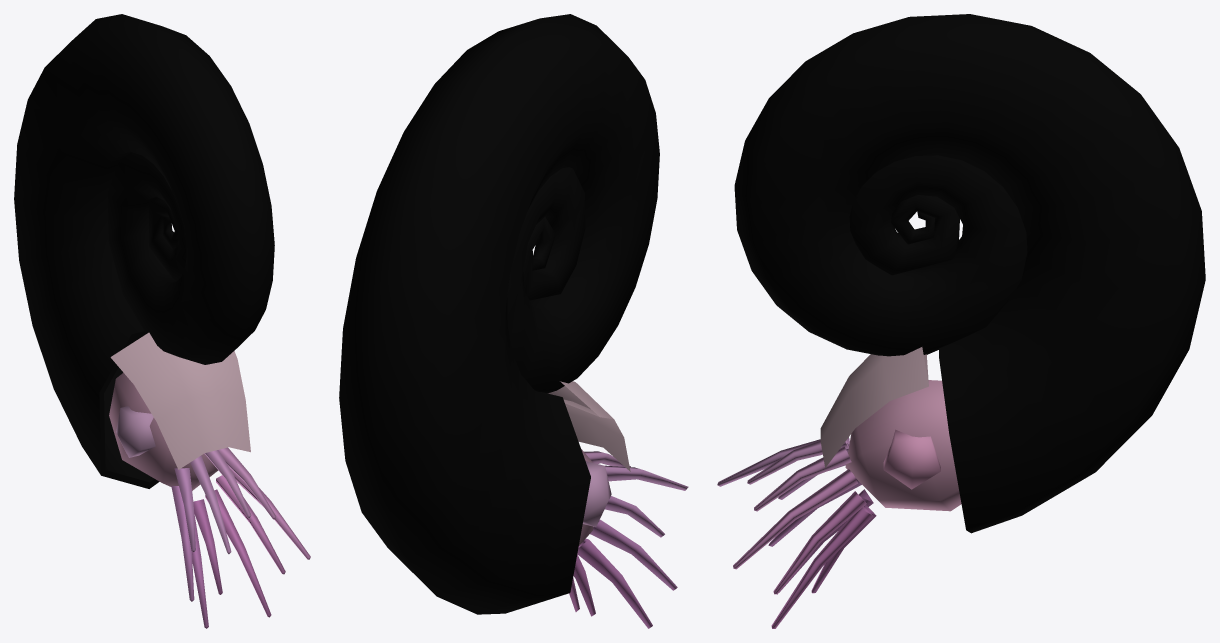
Rendered from ammonite_lo.glb.
3 renders of one model, left to right at view 1: azimuth 30°, elevation 25°; view 2: azimuth 150°, elevation 25°; view 3: azimuth 270°, elevation 25°, orthographic. The views are drawn at different scales.
Visible parts, largest first — view 1: ammonite_lo; view 2: ammonite_lo; view 3: ammonite_lo.
Boxes of the visible parts, x1,y1,x2,y2 form: ammonite_lo: (14,14,310,628); ammonite_lo: (339,14,688,628); ammonite_lo: (717,14,1205,628).
Size of the model in its own units: 0.1074 by 0.4608 by 0.3411.
